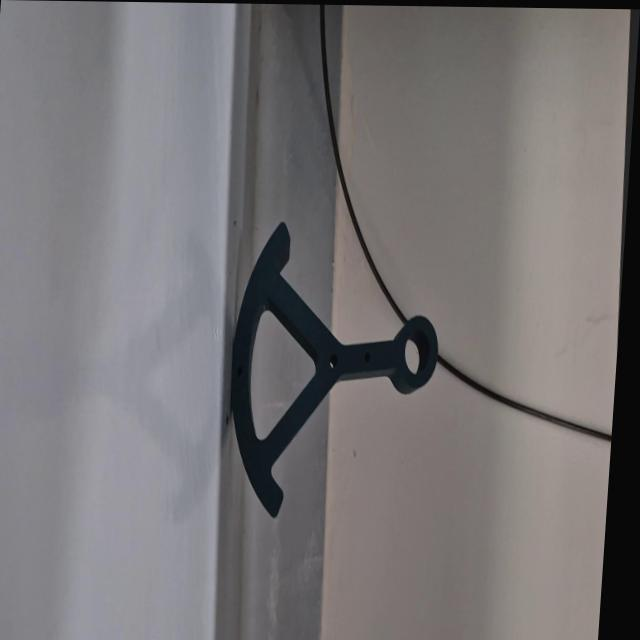haptic: (220, 220, 446, 521)
